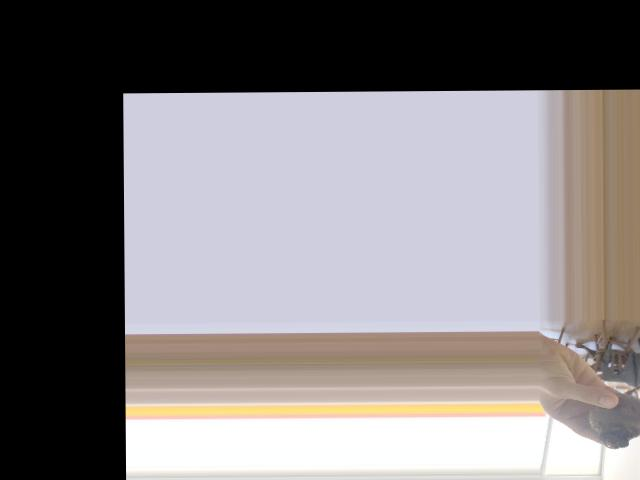beet: (589, 377, 640, 449)
